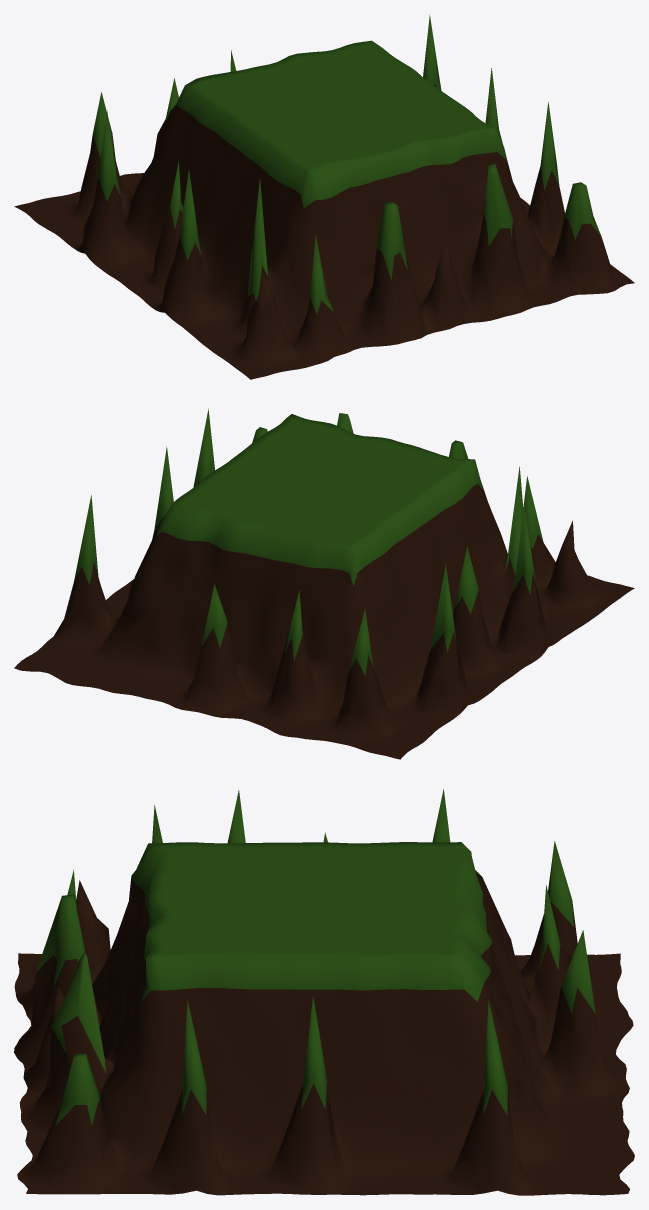
Rendered from Mountain_Mapa06_05.FBX.
The picture shows the model from 3 angles, top to bottom: view 1: azimuth 30°, elevation 25°; view 2: azimuth 150°, elevation 25°; view 3: azimuth 270°, elevation 25°; orthographic projection. The views are drawn at different scales.
Visible parts, largest first — view 1: Plane007; view 2: Plane007; view 3: Plane007.
Boxes of the visible parts, left/top/right/bottom form: Plane007: left=14, top=14, right=634, bottom=379; Plane007: left=14, top=408, right=634, bottom=759; Plane007: left=14, top=789, right=634, bottom=1195.
Size of the model in its own units: 276 by 99.96 by 299.
